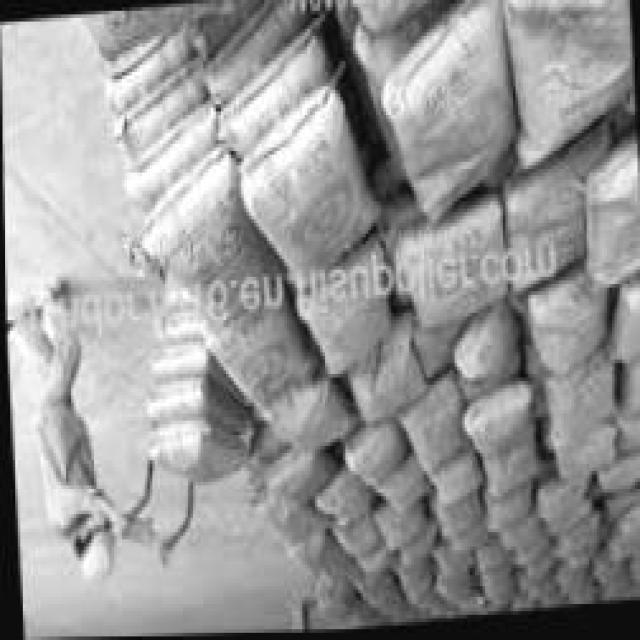gunny_bag: (386, 0, 517, 227), (239, 91, 383, 293), (144, 143, 288, 325), (507, 0, 634, 181), (504, 128, 610, 295), (204, 282, 322, 410), (218, 17, 330, 150), (396, 200, 505, 336), (295, 242, 390, 381), (204, 0, 304, 100), (77, 0, 243, 60), (124, 102, 212, 207), (524, 275, 606, 378), (115, 60, 206, 150), (587, 138, 640, 289), (348, 320, 424, 425), (143, 375, 251, 441), (146, 341, 249, 407), (264, 381, 355, 454), (148, 418, 244, 486), (453, 308, 521, 403), (399, 376, 463, 472), (550, 359, 613, 451), (461, 381, 532, 460), (253, 494, 333, 551), (285, 529, 357, 592), (482, 424, 540, 500), (341, 421, 406, 488), (262, 448, 335, 506), (309, 471, 373, 526), (603, 276, 640, 366), (554, 427, 614, 482), (429, 450, 481, 508), (376, 458, 428, 515), (426, 490, 482, 541), (480, 479, 530, 534), (374, 503, 425, 552), (329, 512, 380, 559), (534, 482, 586, 524), (149, 303, 201, 341), (594, 458, 640, 498), (430, 542, 472, 583), (351, 575, 394, 615), (605, 505, 640, 553), (400, 522, 435, 570), (617, 360, 640, 418), (498, 521, 540, 552), (355, 546, 393, 577), (474, 538, 506, 571), (393, 562, 428, 589)
